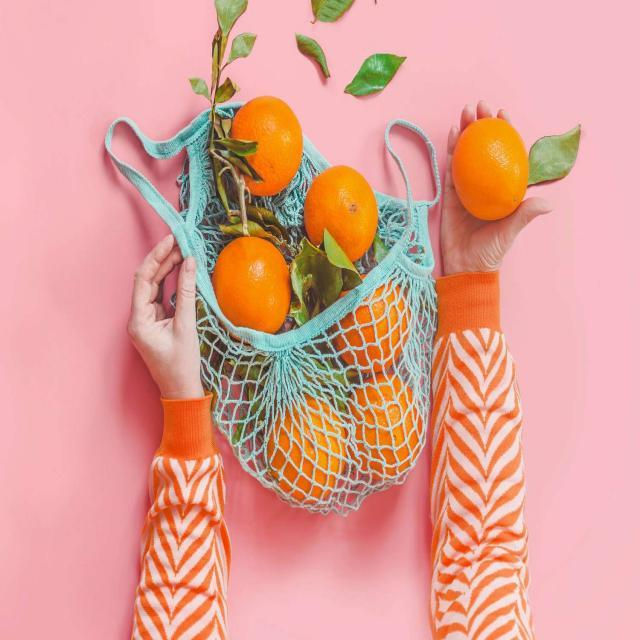Orange: (450, 116, 529, 221), (211, 235, 291, 334), (228, 94, 303, 196), (330, 281, 410, 375), (303, 164, 378, 262)
